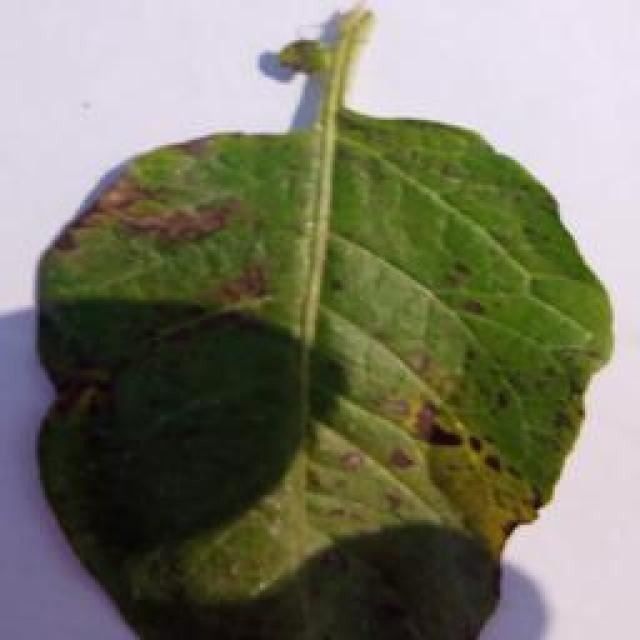Potato_Early_Blight: (38, 92, 620, 640)
